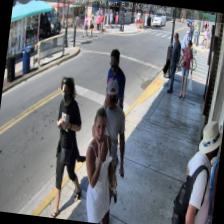person: (44, 76, 94, 220), (86, 78, 135, 224), (78, 106, 125, 224), (178, 117, 223, 224), (94, 47, 130, 174), (174, 38, 196, 97), (164, 31, 182, 93)
